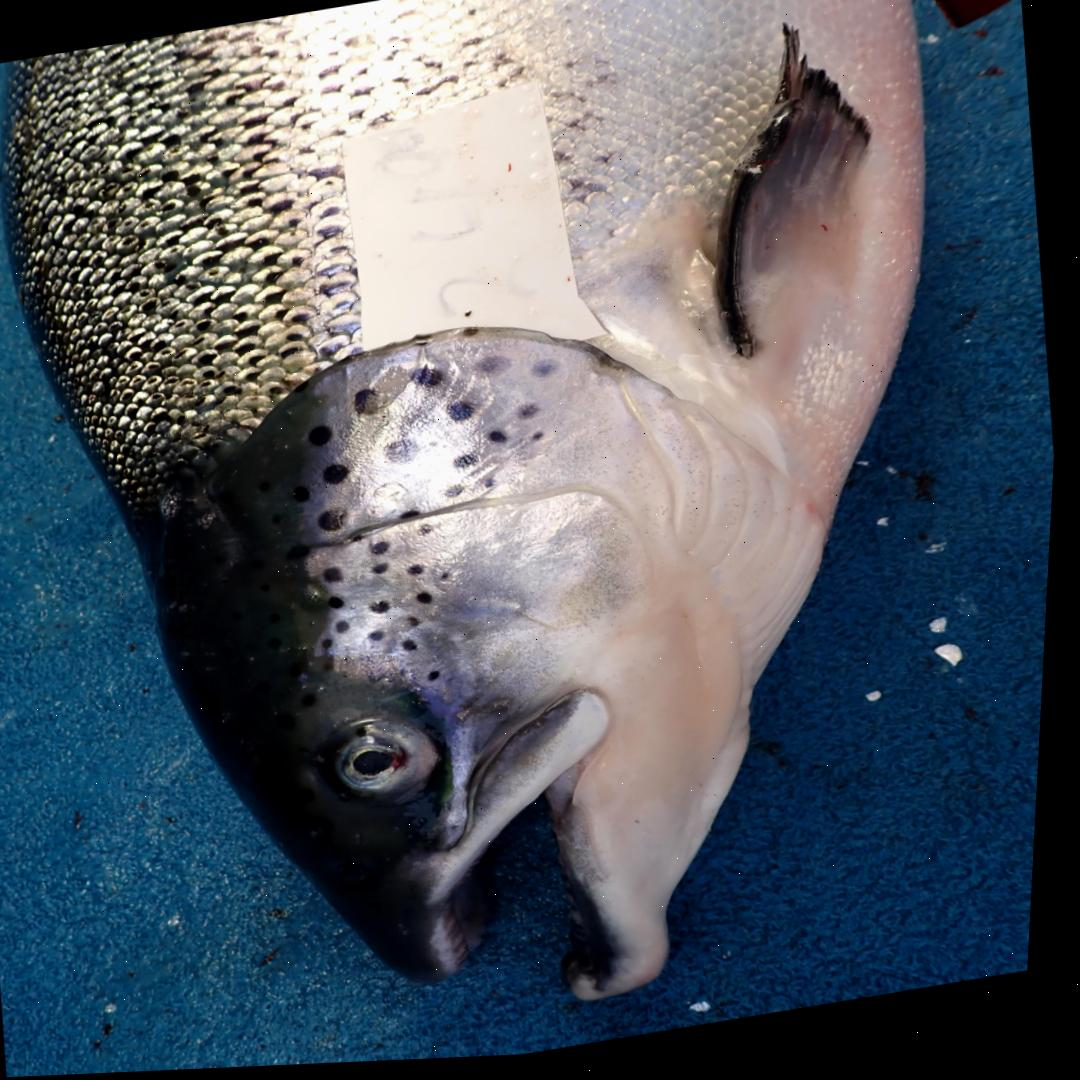spot: (357, 367, 414, 418), (388, 441, 423, 467), (533, 361, 565, 383), (480, 358, 515, 378), (323, 511, 350, 534), (417, 369, 446, 390), (328, 465, 355, 487), (311, 428, 337, 449), (452, 404, 478, 424), (348, 530, 371, 548), (375, 542, 396, 559), (459, 457, 482, 472), (328, 569, 349, 585), (292, 547, 315, 561), (522, 407, 542, 423), (492, 433, 512, 448), (450, 487, 470, 502), (298, 487, 315, 504), (333, 597, 351, 612), (405, 511, 425, 524), (377, 564, 395, 578), (374, 631, 391, 645), (377, 603, 395, 616), (407, 642, 425, 655), (341, 622, 356, 636), (423, 524, 438, 538), (416, 336, 434, 347), (423, 594, 438, 607), (411, 620, 428, 631), (415, 567, 430, 579), (433, 672, 447, 684), (468, 329, 483, 340), (487, 481, 500, 492), (328, 641, 338, 654), (536, 436, 547, 445), (446, 575, 456, 584)
